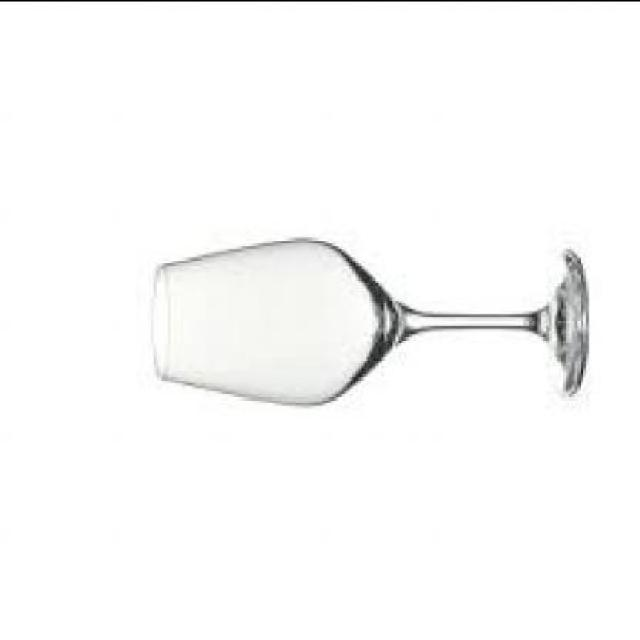glass: (151, 234, 586, 401)
